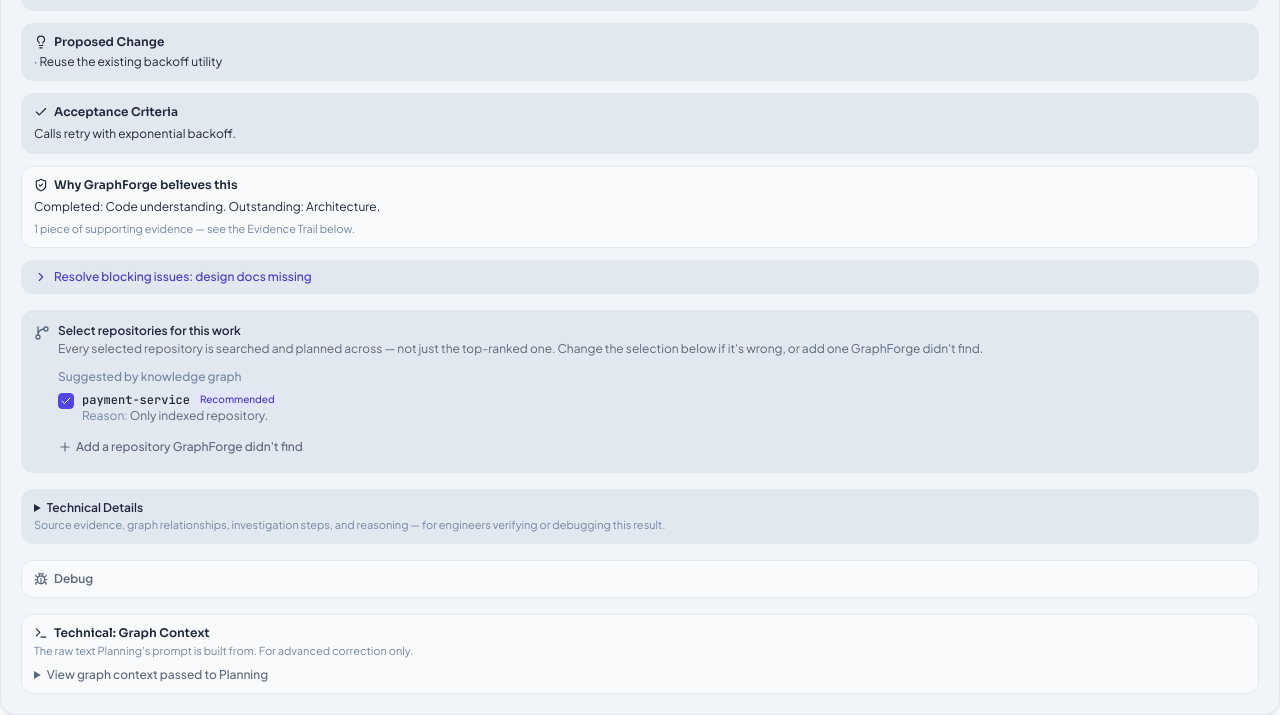
Scenario: ContextExplorerPanel › shows the agent's own text when no correction has been made
This screenshot has width=1280, height=715.
(page scrolled)
Click the heading "View graph context passed to Planning" at (157, 675), box [47,668,268,682]
(page scrolled)
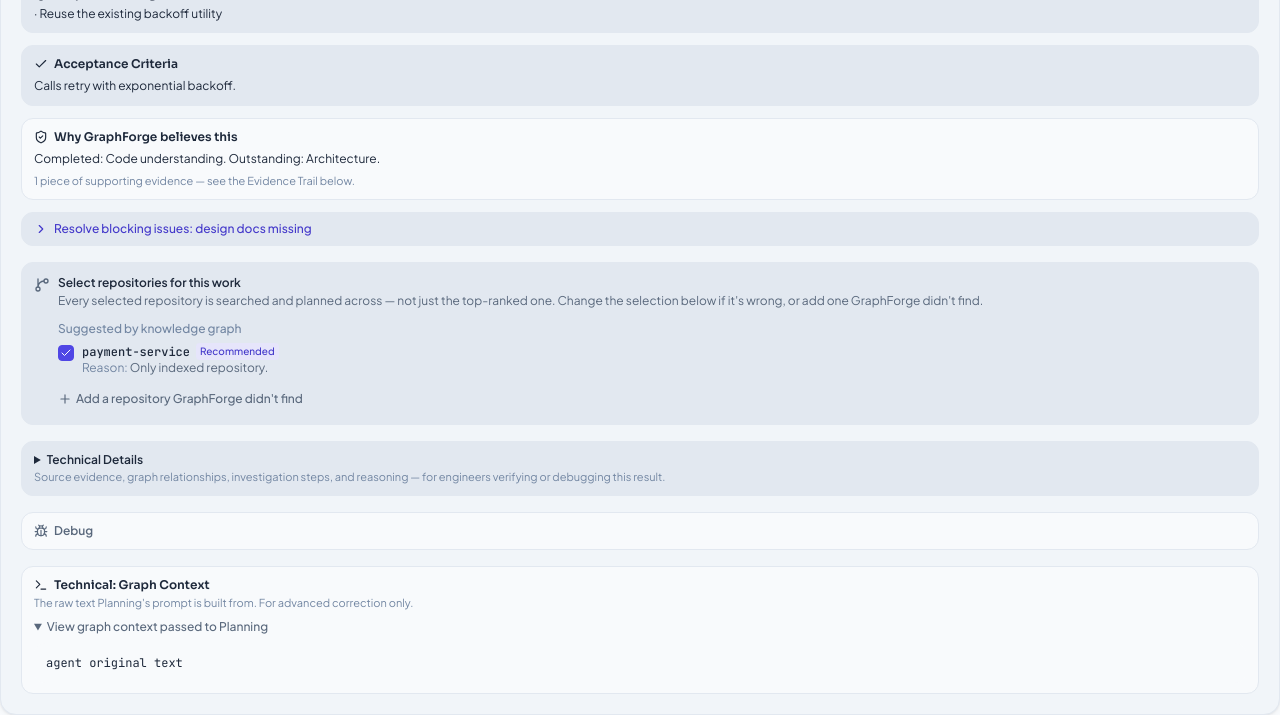
Now the text "agent original text" is shown, box [34,644,1246,684]
